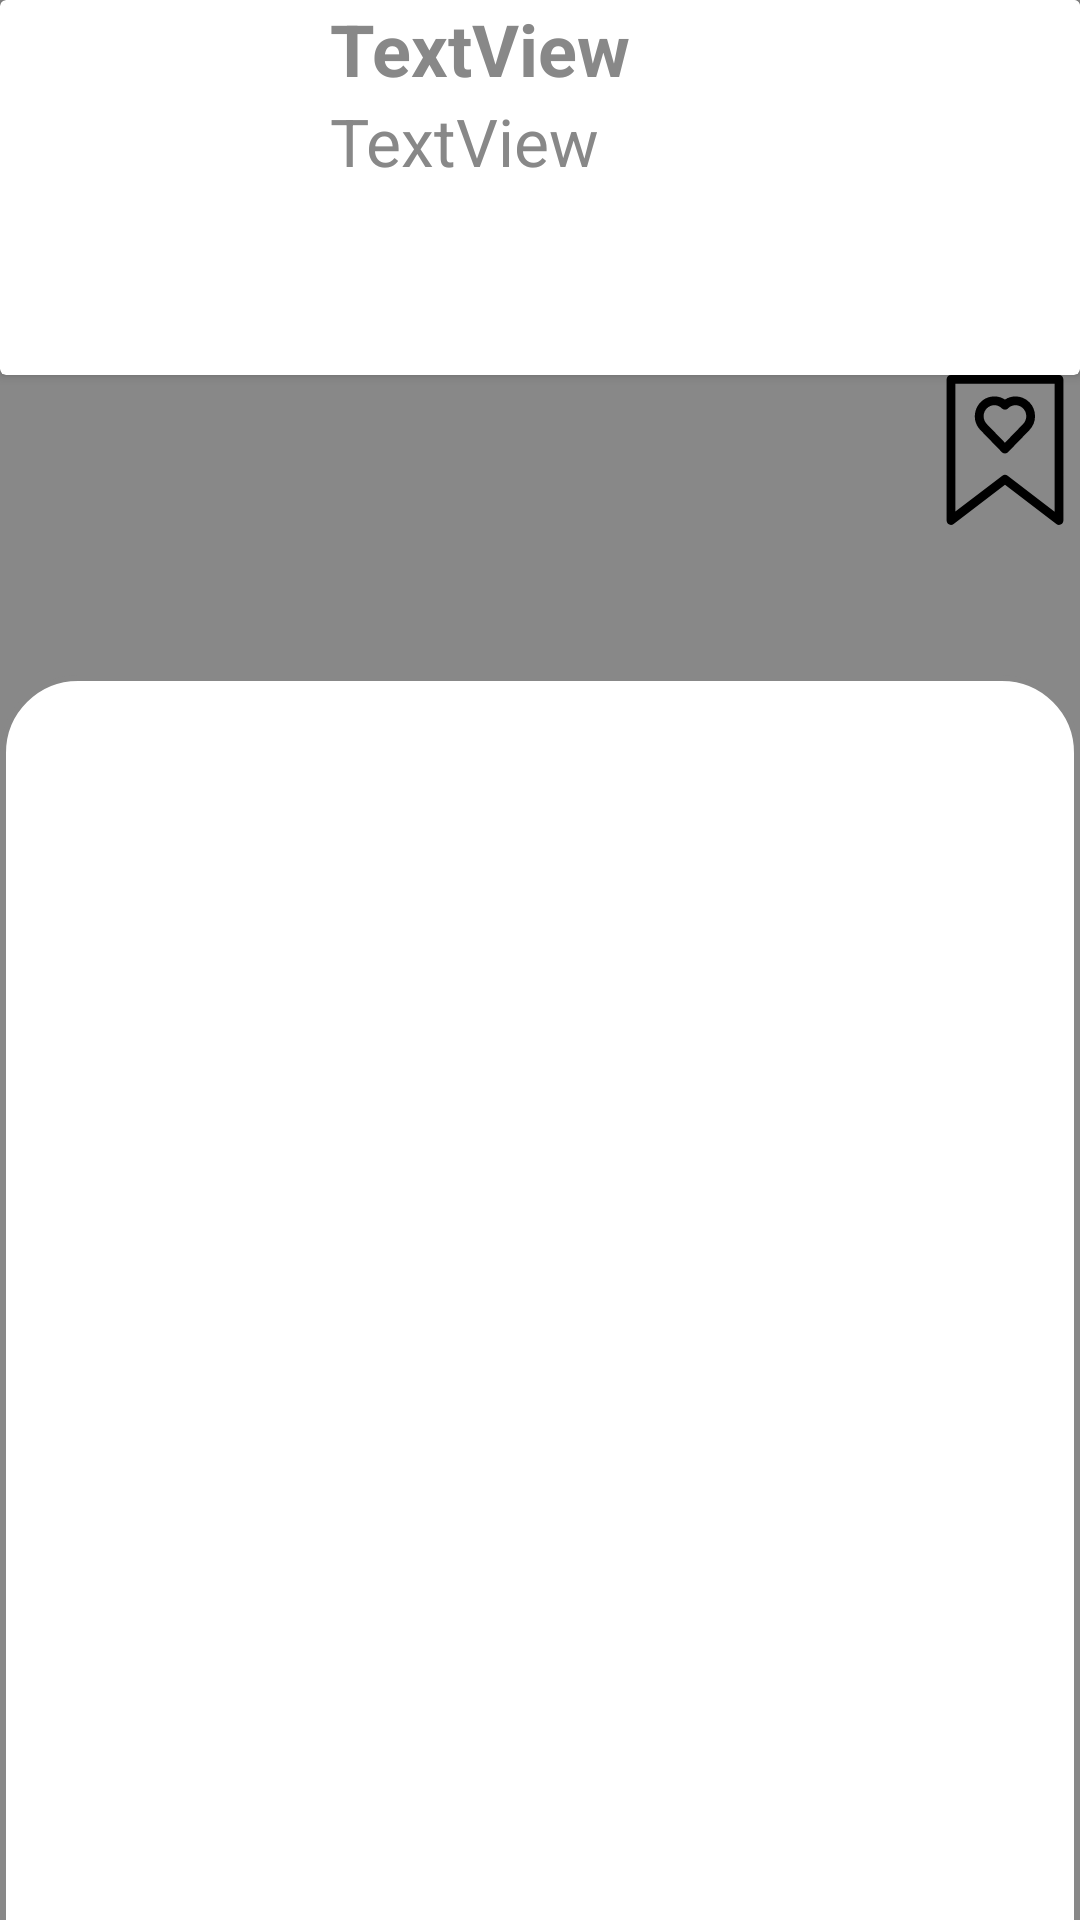

Named icons in this screenshot (1080*1920) and their centers, (x=x, y=y):
favourite: (x=1005, y=450)
